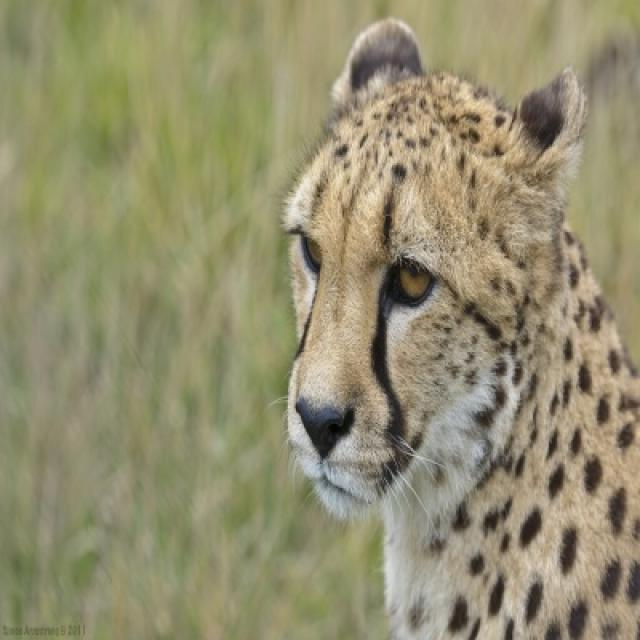Cheetah: (283, 21, 638, 638)
